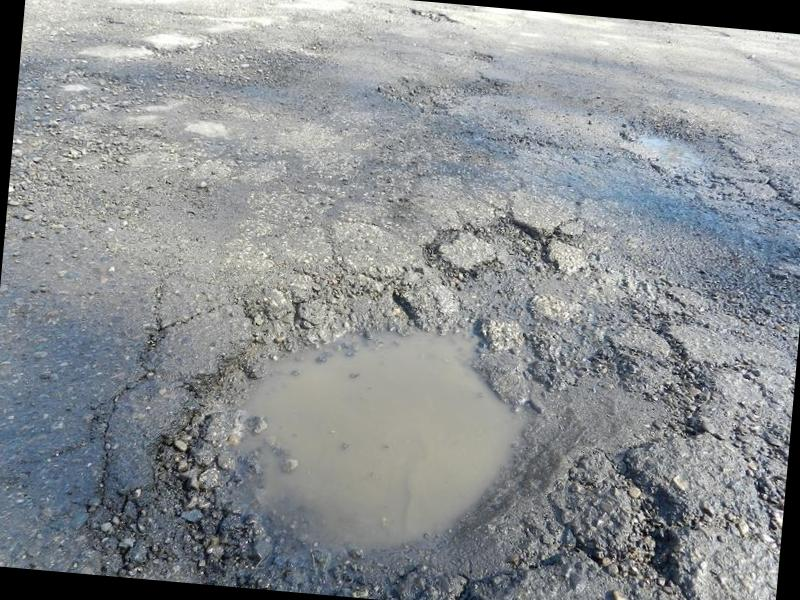pothole: (106, 213, 636, 600), (590, 97, 744, 186)
